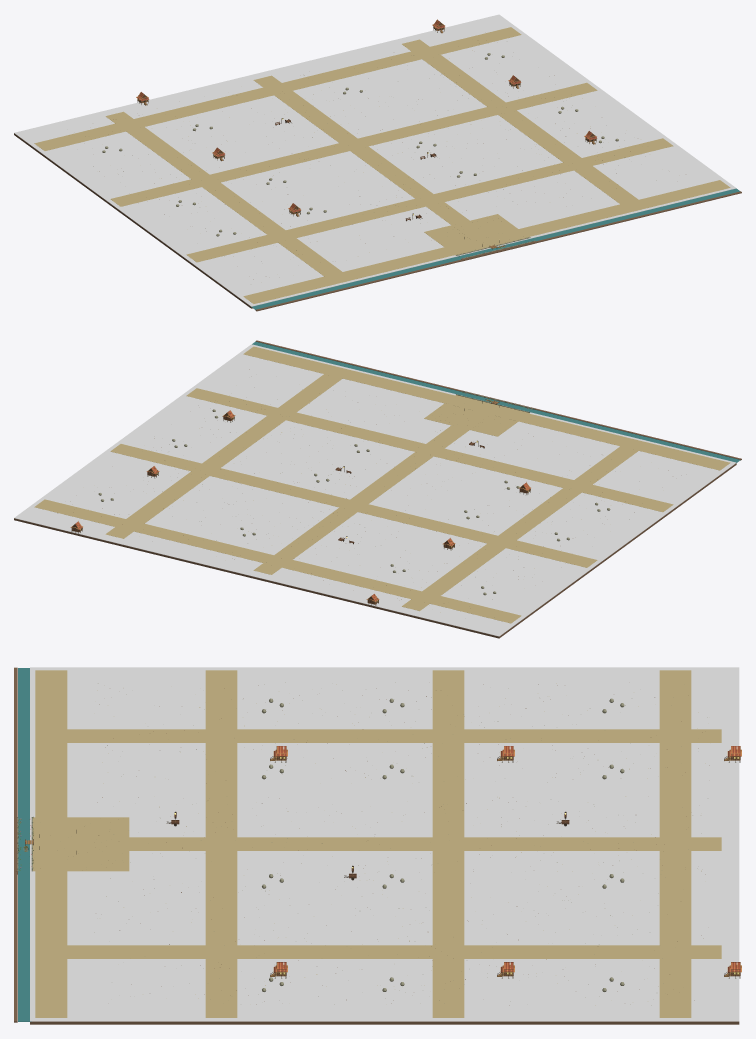
Rendered from suphan-wilds.glb.
The picture shows the model from 3 angles, top to bottom: view 1: azimuth 30°, elevation 25°; view 2: azimuth 150°, elevation 25°; view 3: azimuth 270°, elevation 25°; orthographic projection. The views are drawn at different scales.
Parts seen in each view (by area): view 1: Expanded ground · meadow, Regional avenues · sand, River extension · water, Far bank extension · earth, Terrain · sand, Expanded ground · earth; view 2: Expanded ground · meadow, Regional avenues · sand, Expanded ground · earth, River extension · water, Terrain · sand, Far bank extension · earth; view 3: Expanded ground · meadow, Regional avenues · sand, River extension · water, Expanded ground · earth, Terrain · sand, Far bank extension · earth, Forest boulders · stone, River · water.
Part boxes in pixels (<box>): Expanded ground · meadow: <box>14,14,736,306</box>; Regional avenues · sand: <box>34,27,730,303</box>; River extension · water: <box>251,188,739,309</box>; Far bank extension · earth: <box>255,191,741,311</box>; Terrain · sand: <box>424,214,528,255</box>; Expanded ground · earth: <box>14,133,252,308</box>; Expanded ground · meadow: <box>14,344,736,636</box>; Regional avenues · sand: <box>34,346,730,623</box>; Expanded ground · earth: <box>14,463,736,638</box>; River extension · water: <box>252,341,740,463</box>; Terrain · sand: <box>424,395,529,436</box>; Far bank extension · earth: <box>255,340,741,460</box>; Expanded ground · meadow: <box>30,667,739,1021</box>; Regional avenues · sand: <box>35,670,721,1017</box>; River extension · water: <box>18,668,31,1021</box>; Expanded ground · earth: <box>30,1021,739,1024</box>; Terrain · sand: <box>33,817,129,871</box>; Far bank extension · earth: <box>14,667,17,1022</box>; Forest boulders · stone: <box>262,698,624,991</box>; River · water: <box>18,817,29,871</box>.
Bounding box in the file's own units: 236 × 5.84 × 205.
